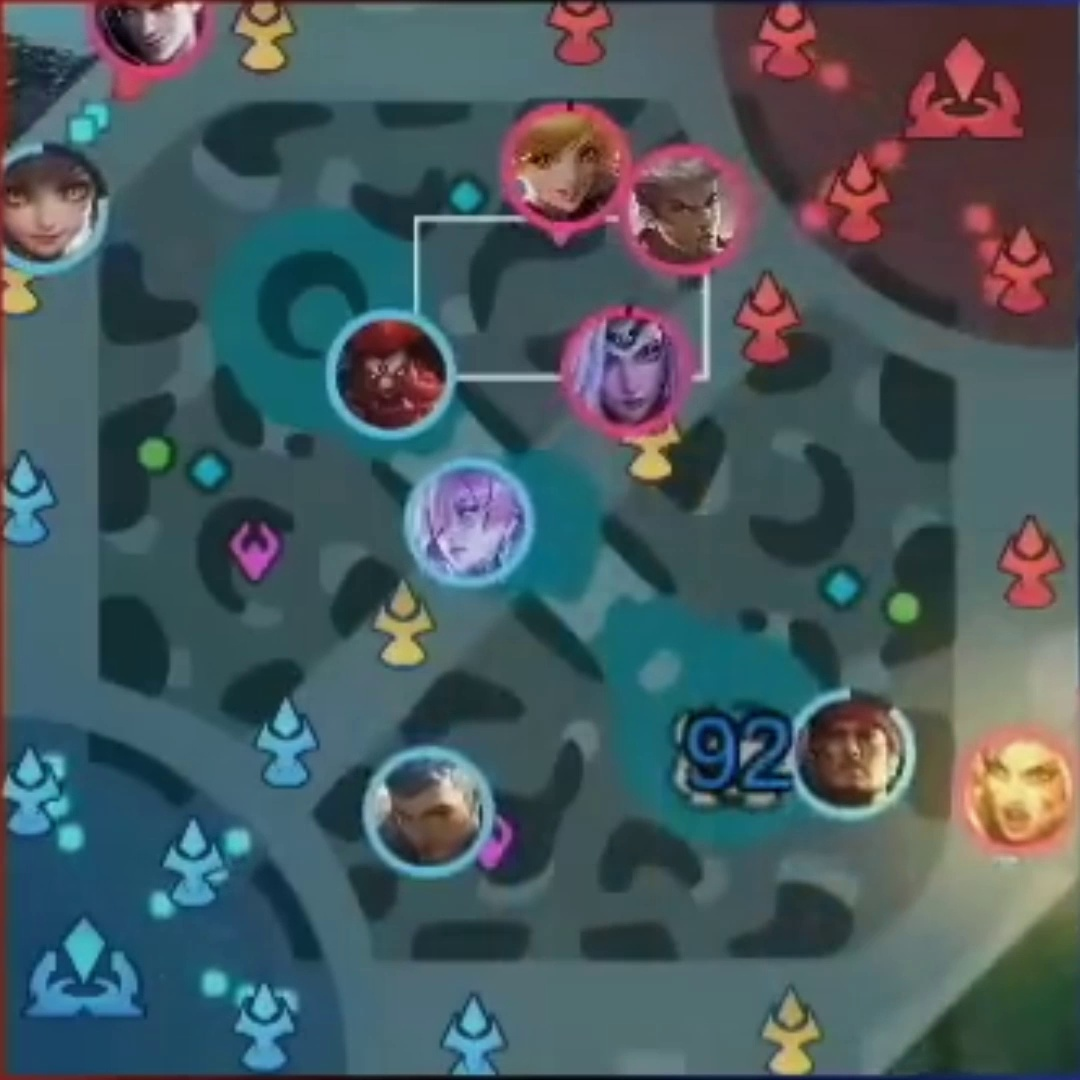Chou: (636, 161, 727, 259)
Claude: (113, 2, 197, 61)
Fanny: (521, 116, 606, 221)
Fredrinn: (382, 767, 469, 865)
Lapu-Lapu: (811, 706, 896, 803)
Masha: (980, 751, 1054, 836)
Minotaur: (347, 331, 434, 420)
Novaria: (421, 479, 515, 564)
Valentina: (573, 322, 671, 424)
Wanwan: (9, 161, 90, 253)
